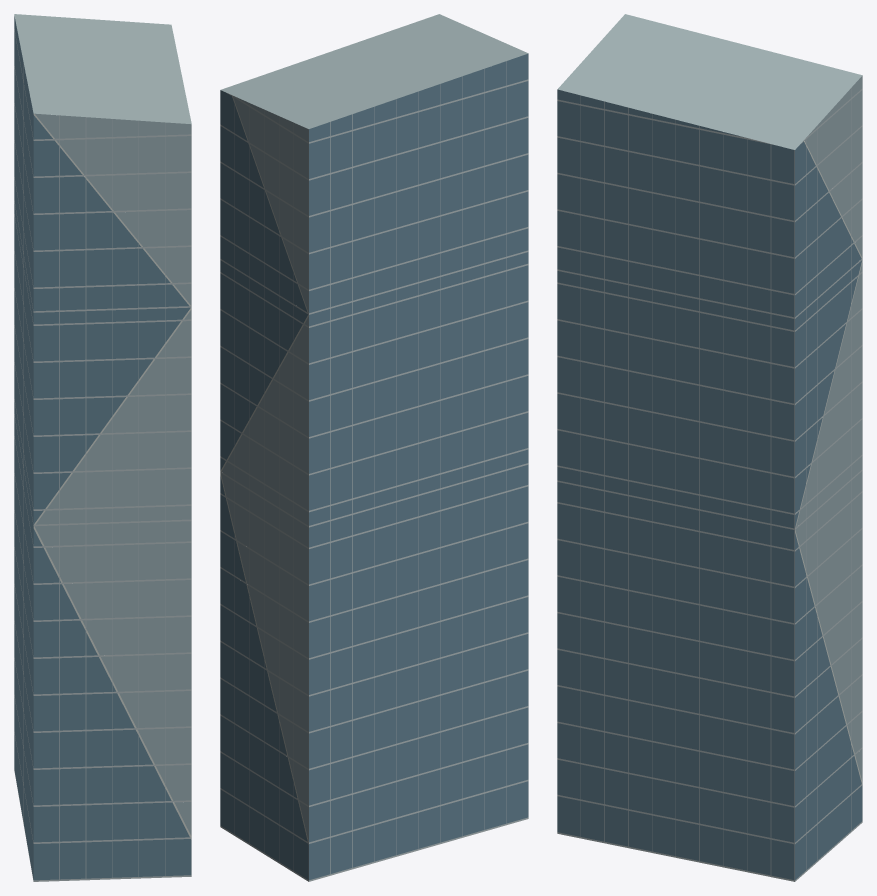
File: tour-carpe-diem-far.glb
3 views of the same model, side by side, from view 1: azimuth 30°, elevation 25°; view 2: azimuth 150°, elevation 25°; view 3: azimuth 270°, elevation 25° (orthographic).
Visible parts, largest first — view 1: tour-carpe-diem-0-glass, tour-carpe-diem-0-glassPale, tour-carpe-diem-0-frame, tour-carpe-diem-0-roof, tour-carpe-diem-0-fold; view 2: tour-carpe-diem-0-glass, tour-carpe-diem-0-glassPale, tour-carpe-diem-0-frame, tour-carpe-diem-0-roof, tour-carpe-diem-0-fold; view 3: tour-carpe-diem-0-glass, tour-carpe-diem-0-frame, tour-carpe-diem-0-glassPale, tour-carpe-diem-0-roof, tour-carpe-diem-0-fold.
Boxes of the visible parts, x1,y1,x2,y2 form: tour-carpe-diem-0-glass: (14,16,191,880); tour-carpe-diem-0-glassPale: (34,113,191,835); tour-carpe-diem-0-frame: (14,29,191,881); tour-carpe-diem-0-roof: (14,14,191,124); tour-carpe-diem-0-fold: (33,113,191,839); tour-carpe-diem-0-glass: (220,54,528,880); tour-carpe-diem-0-glassPale: (221,97,308,840); tour-carpe-diem-0-frame: (220,54,528,881); tour-carpe-diem-0-roof: (221,14,528,128); tour-carpe-diem-0-fold: (220,96,308,844); tour-carpe-diem-0-glass: (557,89,862,879); tour-carpe-diem-0-frame: (557,75,862,881); tour-carpe-diem-0-glassPale: (795,76,862,780); tour-carpe-diem-0-roof: (557,14,862,149); tour-carpe-diem-0-fold: (795,141,862,783).
Size of the model in its own units: 49.39 by 162 by 58.99.
